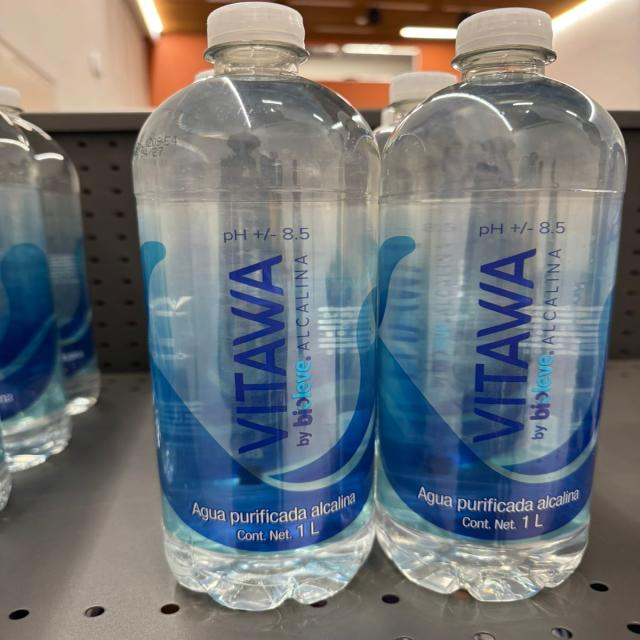AGUA ALCALINA VITAWA 1LT: (141, 4, 403, 617)
